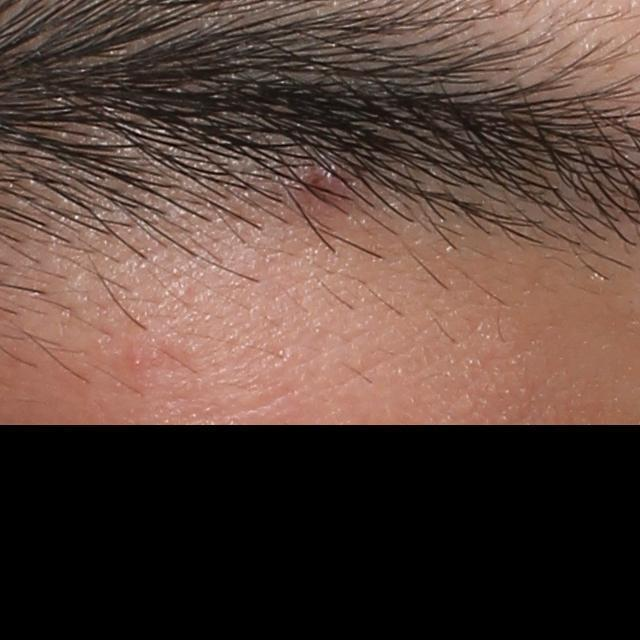papule: (303, 161, 351, 211)
